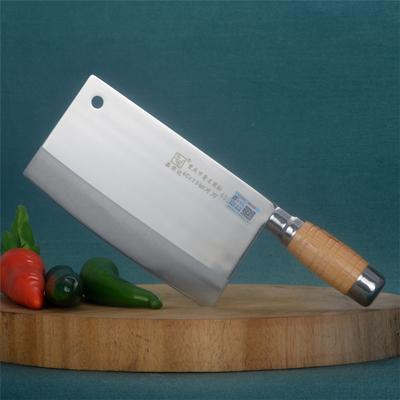knife: (15, 61, 390, 349)
